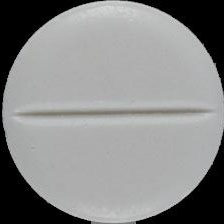61919-373: (0, 0, 224, 224)
